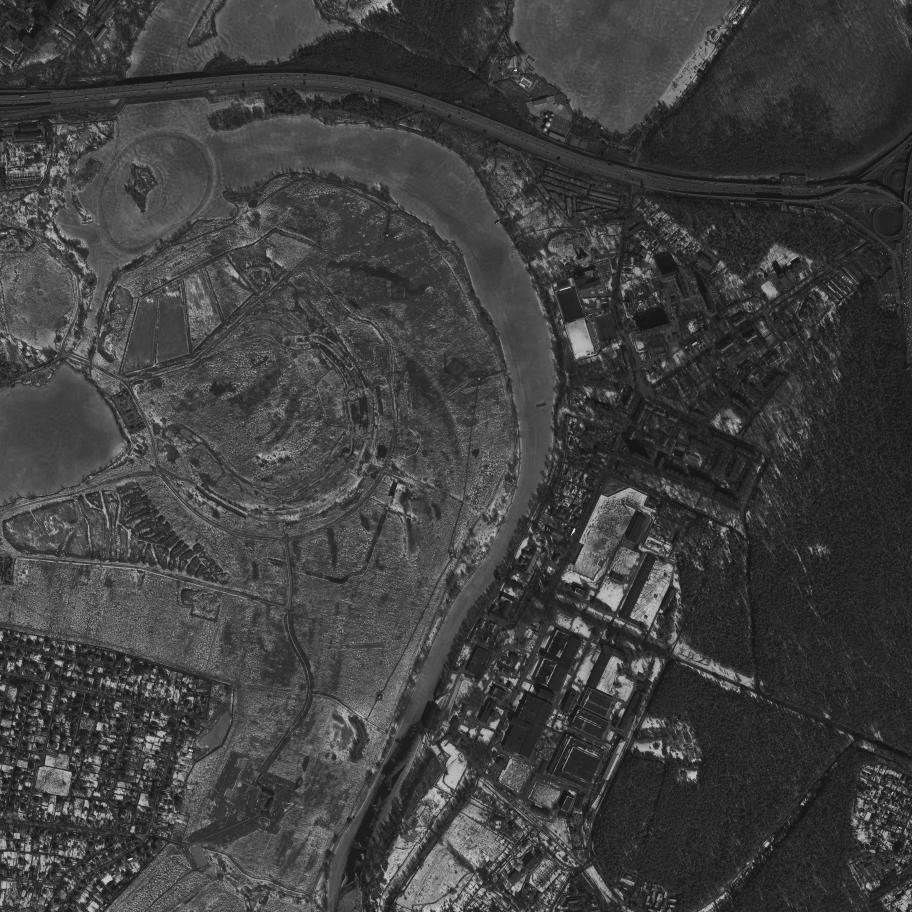storage-tank: (546, 122, 550, 127), (543, 128, 547, 132), (545, 114, 548, 118), (551, 114, 554, 117), (549, 118, 552, 121)
